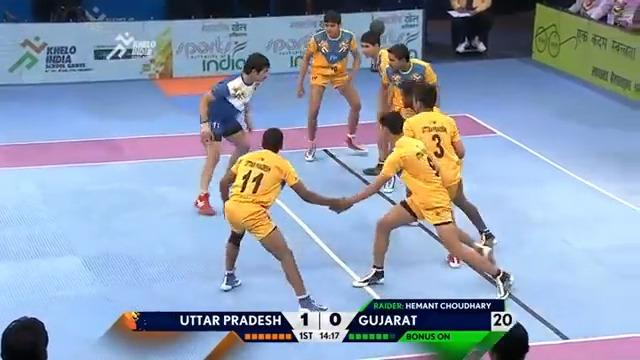Player: (328, 111, 514, 299), (218, 127, 352, 312), (379, 80, 497, 267), (295, 10, 367, 161), (376, 42, 439, 192), (359, 19, 397, 192)
Raider: (193, 51, 270, 215)
referee: (448, 0, 492, 54), (487, 320, 529, 359)
